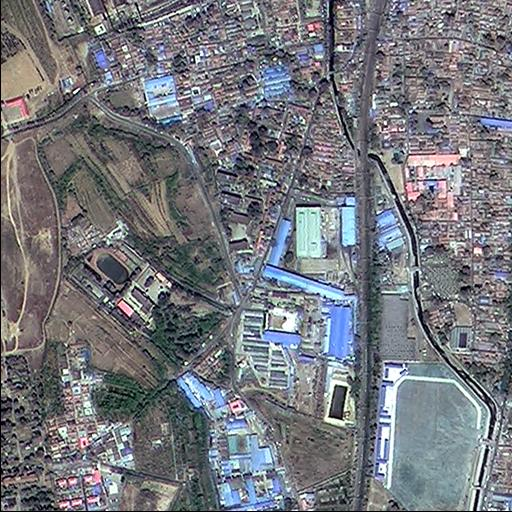school: (65, 240, 171, 332)
